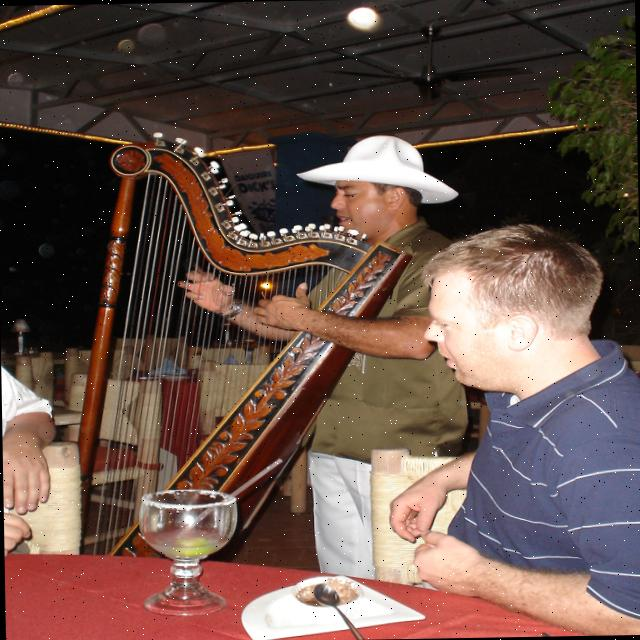harp: (65, 125, 426, 562)
